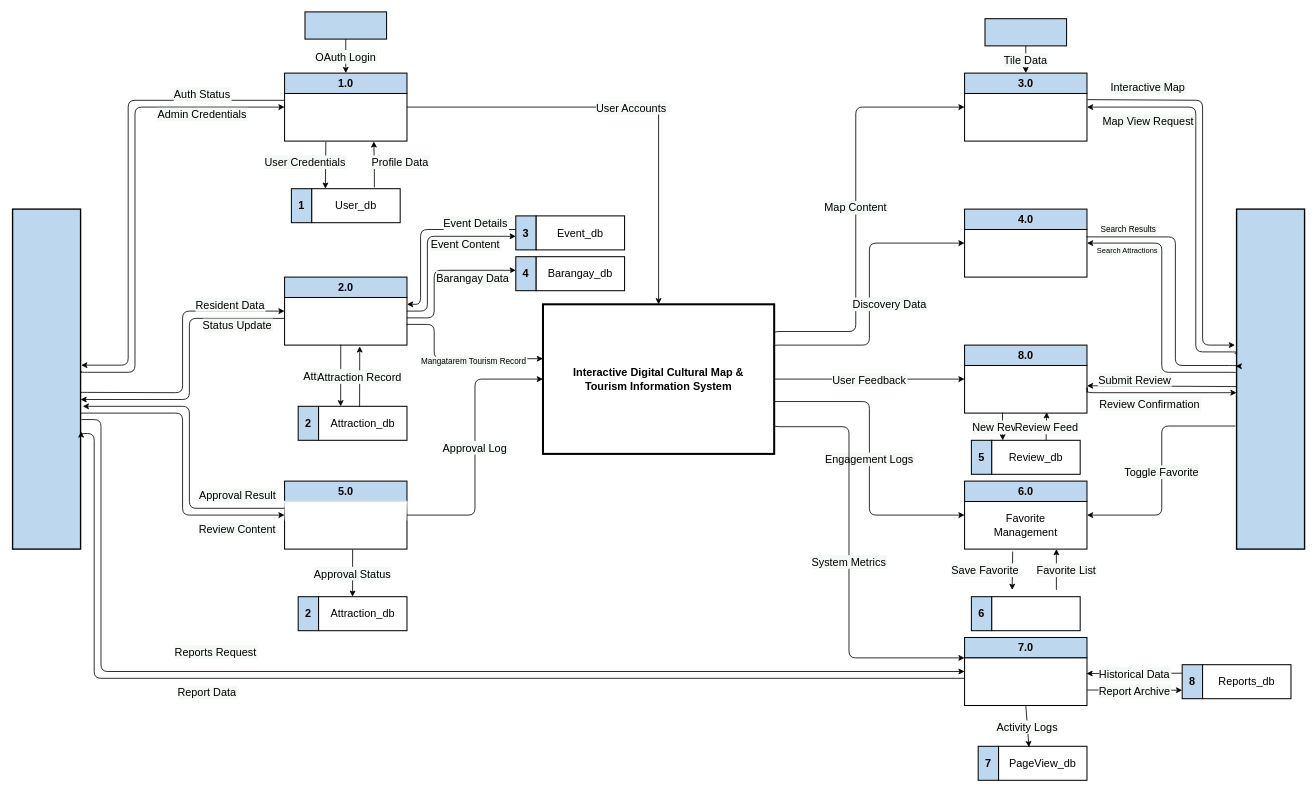
The diagram is 1316 pixels wide and 793 high, and some of its shapes have lost their labels. The shapes that lost their labels are listed below. From the top down, each one's box as (x1, y1, x2, y2) in pixels, then its label:
(304, 11, 387, 39): Google OAuth
(984, 18, 1067, 46): Mapbox API
(284, 93, 407, 141): User Authentication
(964, 93, 1087, 141): Interactive Map Display
(964, 229, 1087, 277): Content Discovery
(284, 297, 407, 345): Content Management
(12, 208, 81, 549): ADMIN
(964, 365, 1087, 413): Review & Feedback
(1236, 208, 1305, 549): TOURIST
(284, 501, 407, 549): Admin Approval
(991, 596, 1080, 631): Favorite_db
(964, 657, 1087, 706): Analytics & Reporting
